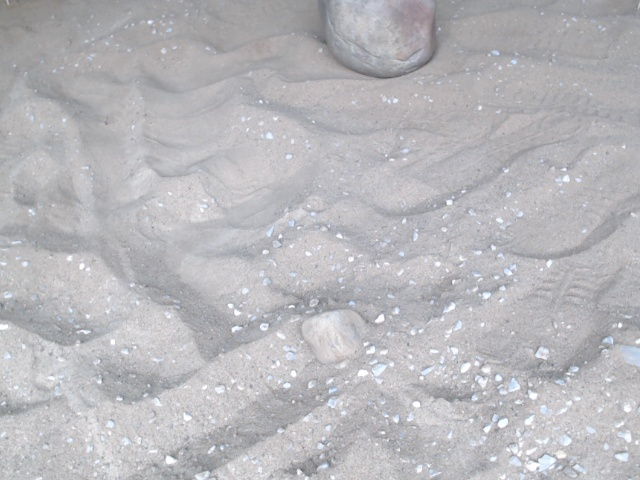rock: (313, 1, 445, 86), (294, 305, 375, 370)
